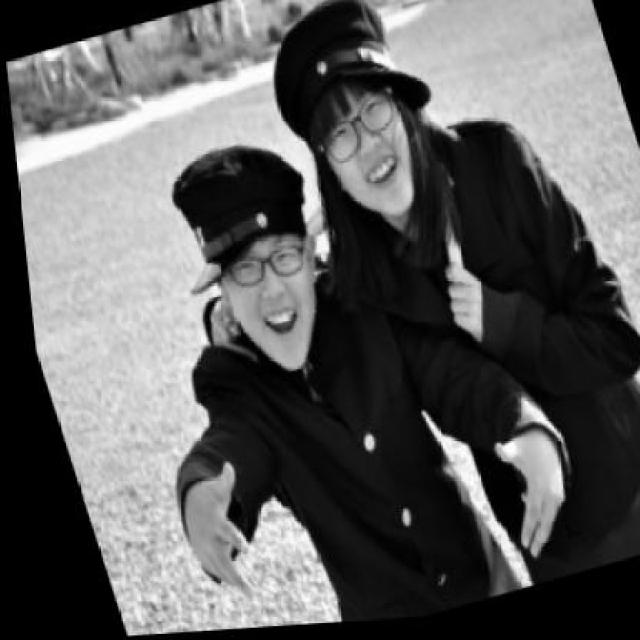hat: (139, 118, 330, 302), (243, 0, 440, 163)
